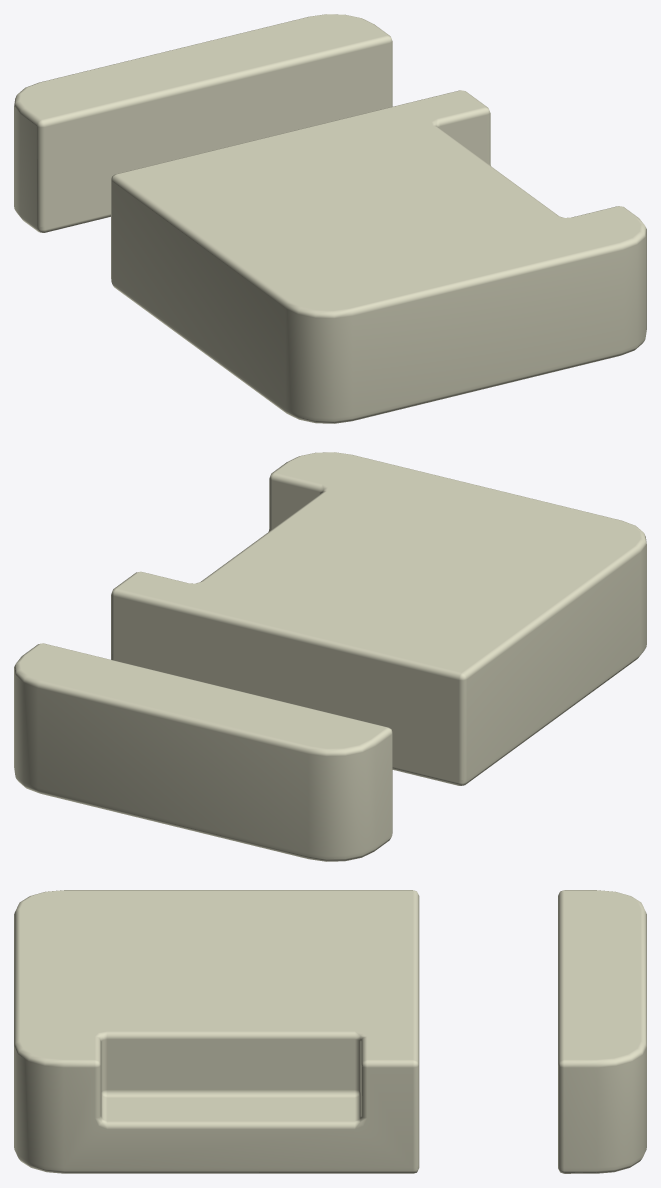
Rendered from retro-game-console-top.fbx.
3 renders of one model, top to bottom at view 1: azimuth 30°, elevation 25°; view 2: azimuth 150°, elevation 25°; view 3: azimuth 270°, elevation 25°, orthographic.
Parts seen in each view (by area): view 1: Plane.005; view 2: Plane.005; view 3: Plane.005.
Boxes of the visible parts, bbox=[...] form: Plane.005: bbox=[14, 14, 646, 423]; Plane.005: bbox=[14, 452, 646, 861]; Plane.005: bbox=[14, 890, 646, 1173].
Bounding box in the file's own units: 200 × 61.1 × 307.
